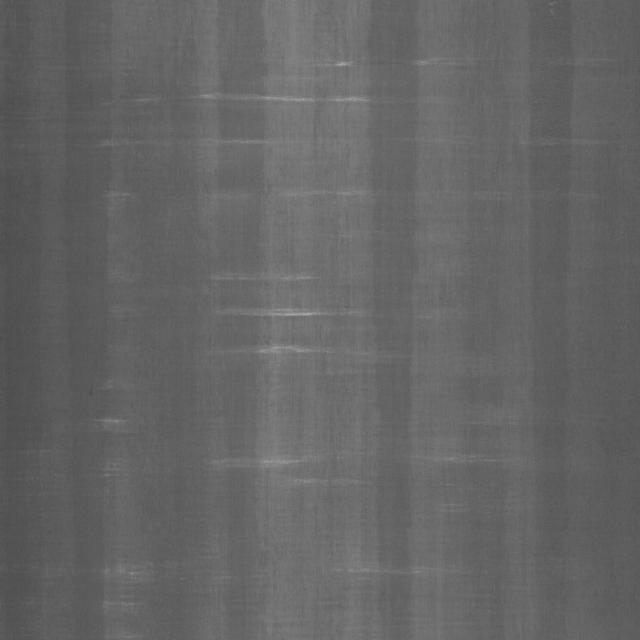punching_hole: (71, 4, 457, 621)
